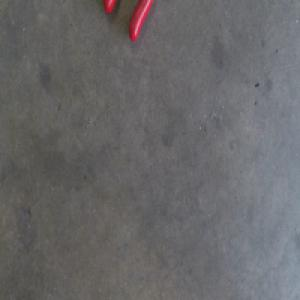Pliers: (101, 0, 152, 42)
